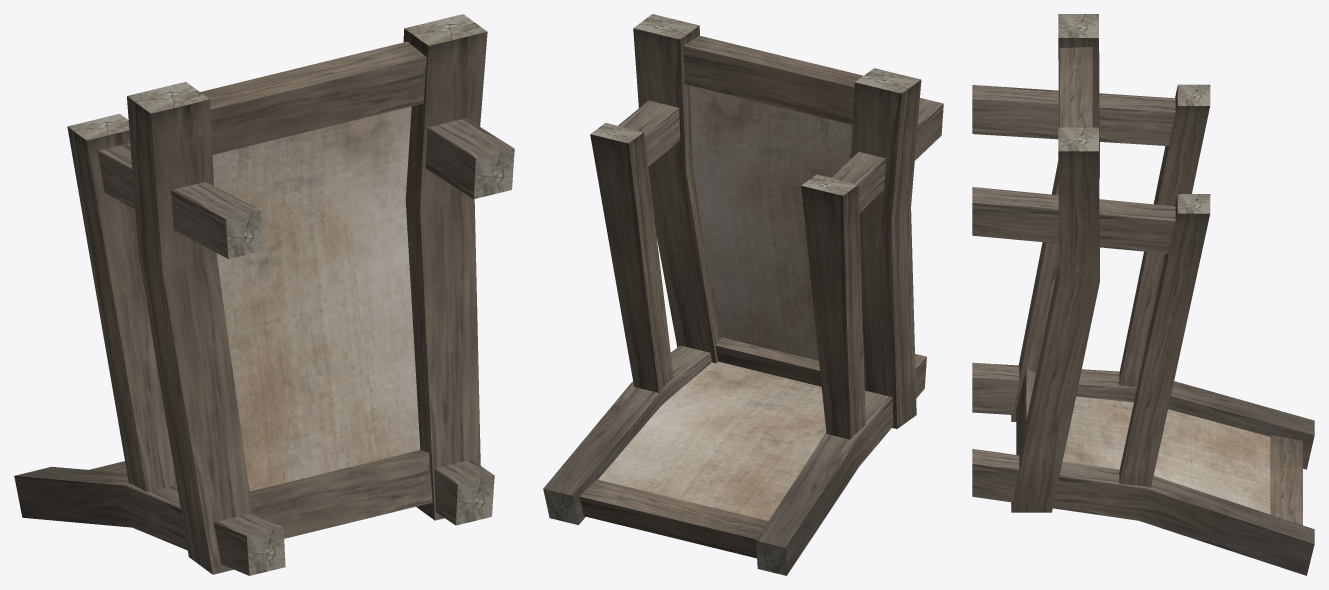
Rendered from LongChair_Type_01_B.fbx.
3 renders of one model, left to right at view 1: azimuth 30°, elevation 25°; view 2: azimuth 150°, elevation 25°; view 3: azimuth 270°, elevation 25°, orthographic. The views are drawn at different scales.
Visible parts, largest first — view 1: LongChair_Type_01_B; view 2: LongChair_Type_01_B; view 3: LongChair_Type_01_B.
Boxes of the visible parts, bbox=[...] form: LongChair_Type_01_B: bbox=[14, 14, 514, 575]; LongChair_Type_01_B: bbox=[543, 14, 943, 575]; LongChair_Type_01_B: bbox=[972, 14, 1314, 575].
Size of the model in its own units: 1.12 by 1.65 by 1.18.
